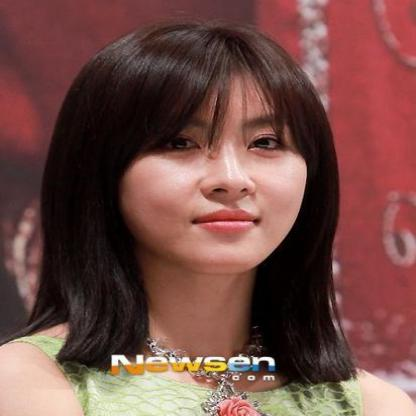long-hair: (20, 300, 372, 354)
